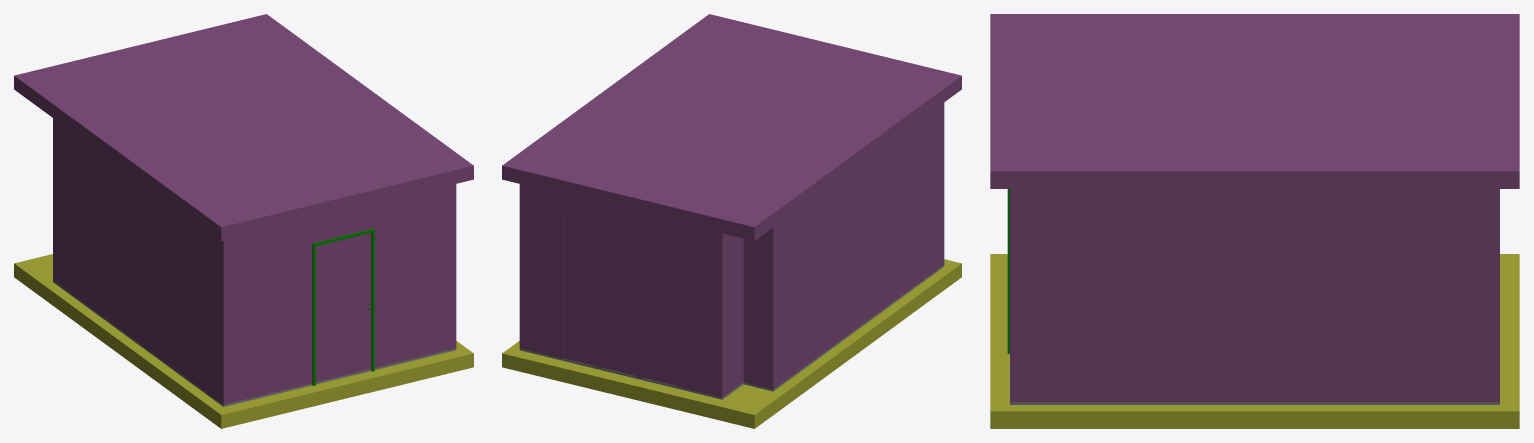
Rendered from FloorPlan327.fbx.
The picture shows the model from 3 angles, left to right: view 1: azimuth 30°, elevation 25°; view 2: azimuth 150°, elevation 25°; view 3: azimuth 270°, elevation 25°; orthographic projection. The views are drawn at different scales.
Visible parts, largest first — view 1: StandardWallSize, Ceiling, Floor, StandardDoorFrame1; view 2: Ceiling, StandardWallSize, Windows, Floor; view 3: StandardWallSize, Ceiling, Floor, StandardDoorFrame1.
Boxes of the visible parts, <box> form: StandardWallSize: <box>53,118,456,406</box>; Ceiling: <box>14,14,473,240</box>; Floor: <box>14,254,473,428</box>; StandardDoorFrame1: <box>312,228,374,385</box>; Ceiling: <box>502,14,961,240</box>; StandardWallSize: <box>519,102,944,399</box>; Windows: <box>563,215,675,385</box>; Floor: <box>502,259,961,428</box>; StandardWallSize: <box>1010,189,1499,404</box>; Ceiling: <box>990,14,1519,188</box>; Floor: <box>990,254,1519,428</box>; StandardDoorFrame1: <box>1007,189,1009,353</box>.
Size of the model in its own units: 380 by 290 by 540.
